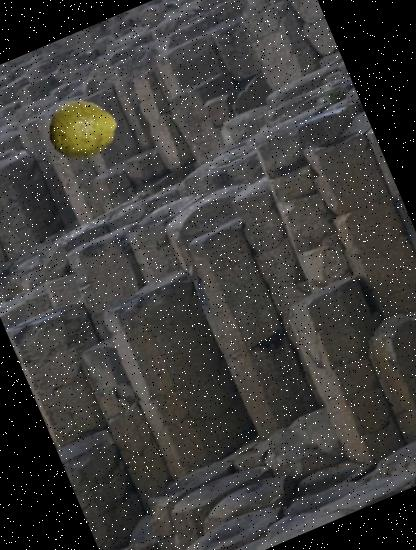Guava: (39, 86, 128, 174)
